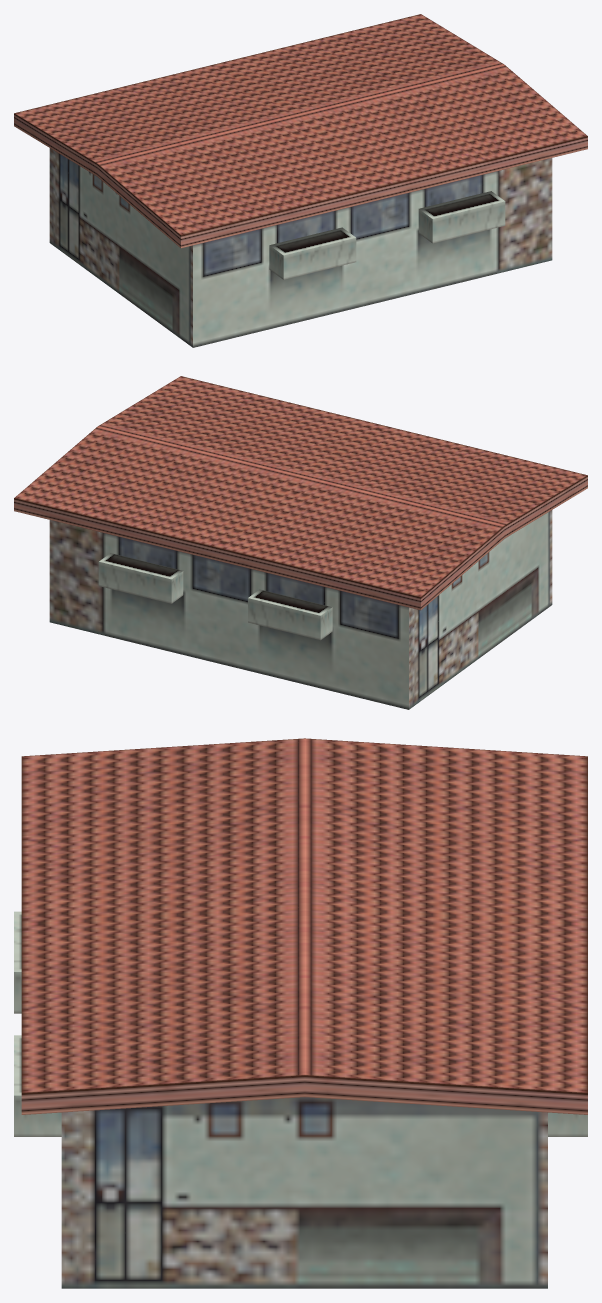
File: GenericHouse03.fbx
3 views of the same model, one above another, from view 1: azimuth 30°, elevation 25°; view 2: azimuth 150°, elevation 25°; view 3: azimuth 270°, elevation 25° (orthographic). The views are drawn at different scales.
Visible parts, largest first — view 1: GenericHouse03a; view 2: GenericHouse03a; view 3: GenericHouse03a.
Boxes of the visible parts, x1=… form: GenericHouse03a: x1=14, y1=14, x2=587, y2=347; GenericHouse03a: x1=14, y1=376, x2=587, y2=709; GenericHouse03a: x1=14, y1=738, x2=587, y2=1288.
Size of the model in its own units: 9.1 by 2.94 by 6.55.
